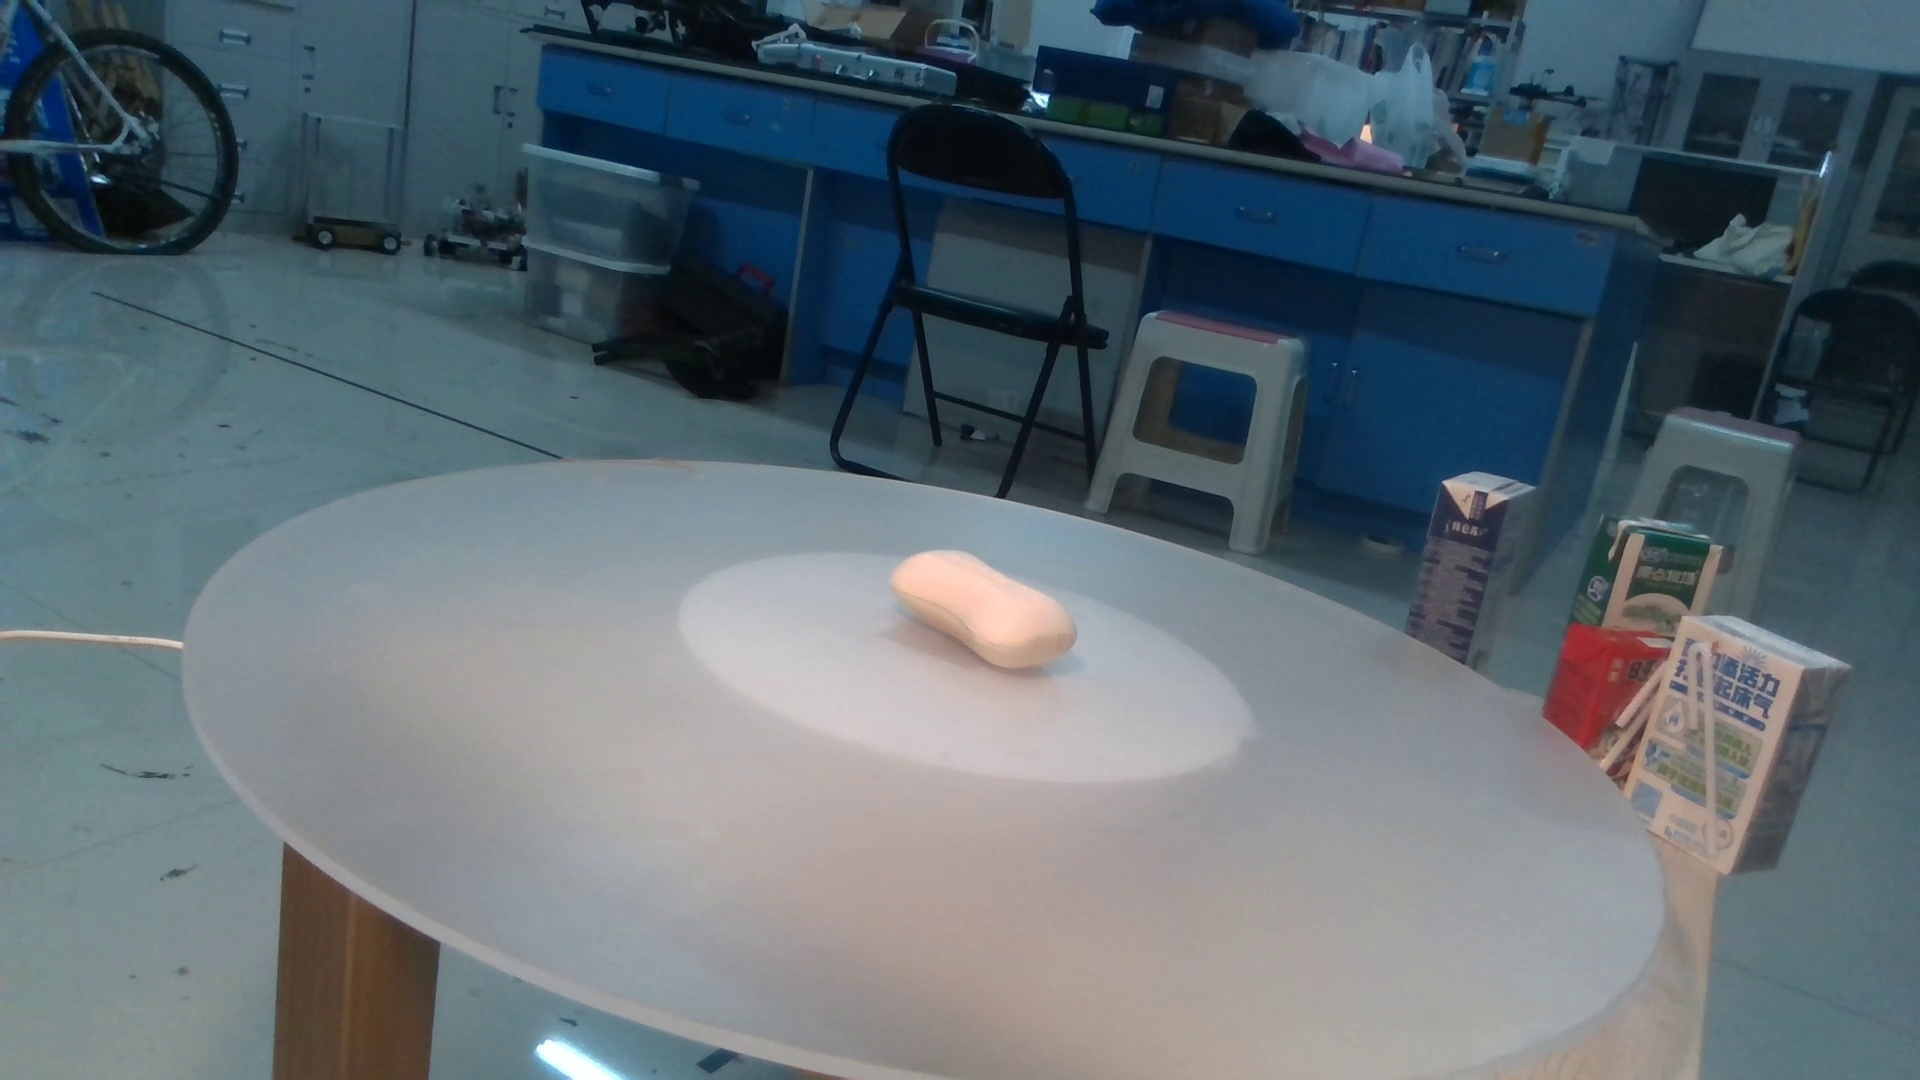CA003_1: (865, 530, 1137, 708)
